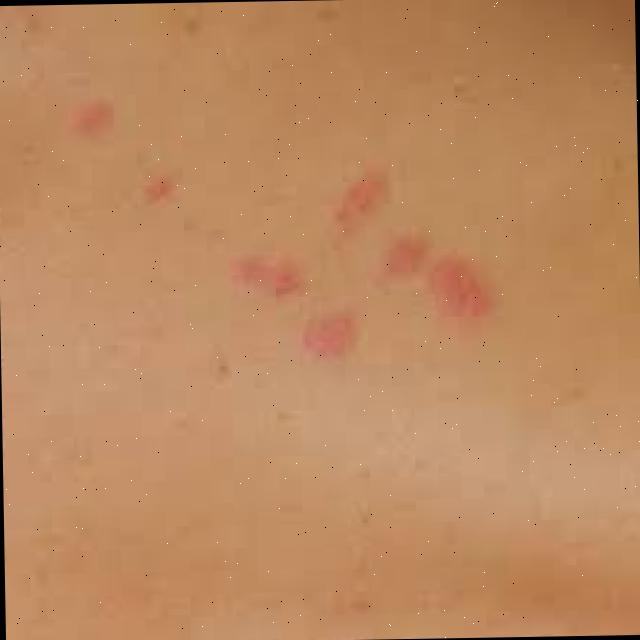kan emici bocekler: (208, 251, 320, 317), (328, 158, 392, 262), (428, 243, 498, 328), (302, 305, 364, 375), (61, 84, 124, 152), (380, 228, 427, 295), (139, 165, 183, 225)
